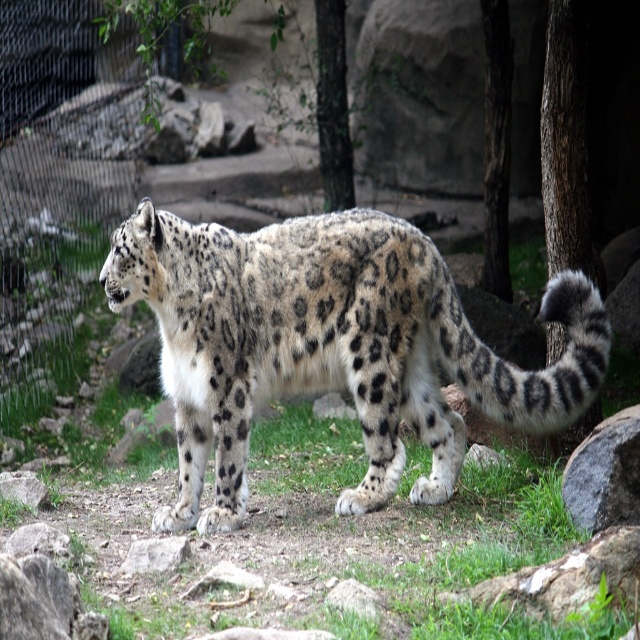Leopard: (102, 199, 614, 538)
